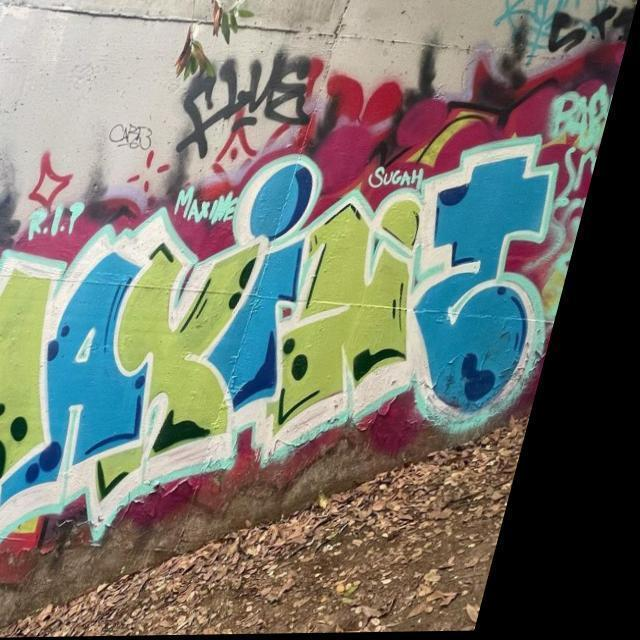nonspitting: (0, 137, 555, 548), (178, 54, 317, 155), (547, 82, 611, 261), (545, 0, 633, 59)
